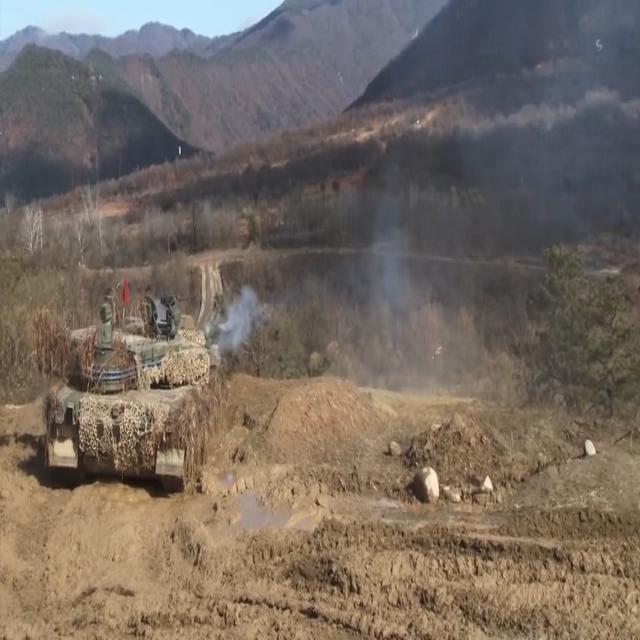korea tank: (30, 287, 282, 500)
